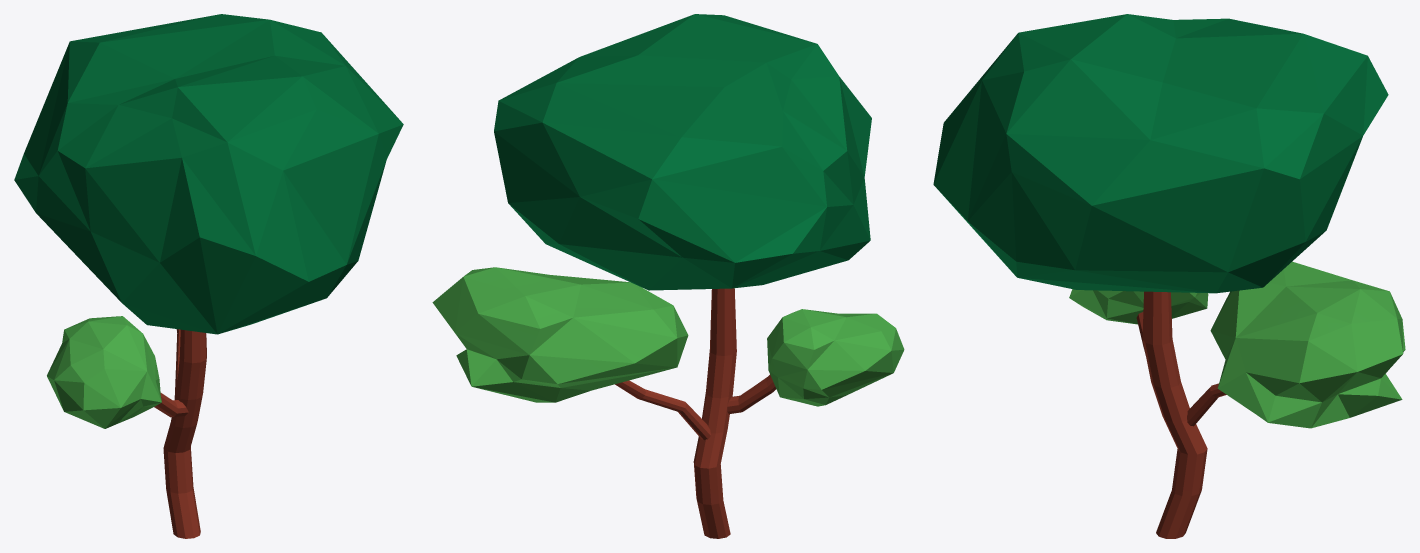
File: Tree.fbx
3 renders of one model, left to right at view 1: azimuth 30°, elevation 25°; view 2: azimuth 150°, elevation 25°; view 3: azimuth 270°, elevation 25°, orthographic. The views are drawn at different scales.
Parts seen in each view (by area): view 1: Tree; view 2: Tree; view 3: Tree.
Boxes of the visible parts, x1,y1,x2,y2 form: Tree: (14, 14, 403, 538); Tree: (432, 14, 904, 538); Tree: (933, 14, 1405, 538).
Size of the model in its own units: 3.45 by 4.37 by 3.67.
